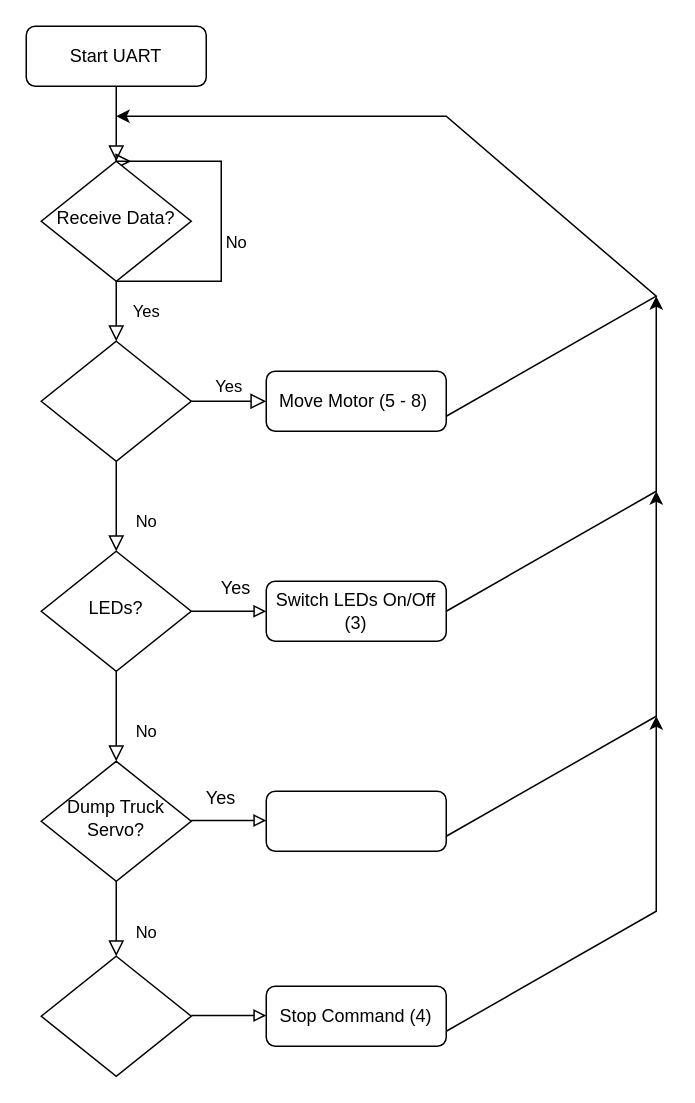
This 695x1103 diagram has some shape labels left out. The box of each missing label's shape, as (x1, y1, x2, y2) in pixels:
Motor Movement?: (40, 340, 191, 461)
Move Dump Bed (1 - 2): (265, 790, 446, 851)
Stop Moving?: (40, 955, 191, 1076)
